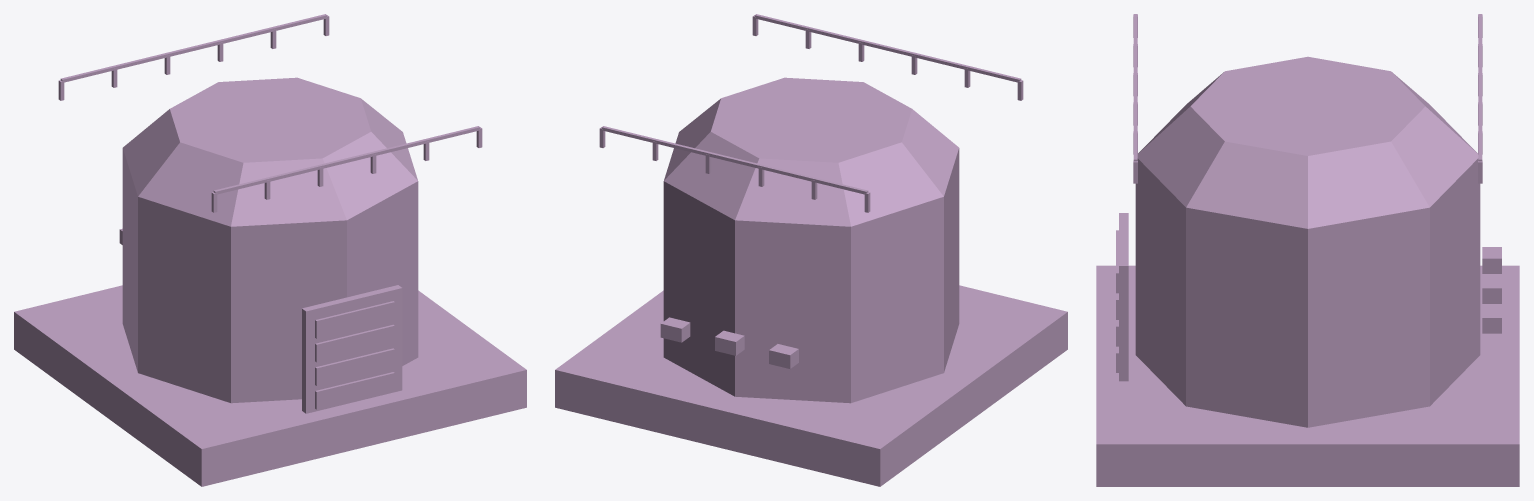
Rendered from exotics_lab.glb.
3 renders of one model, left to right at view 1: azimuth 30°, elevation 25°; view 2: azimuth 150°, elevation 25°; view 3: azimuth 270°, elevation 25°, orthographic. The views are drawn at different scales.
Parts seen in each view (by area): view 1: exotics_lab; view 2: exotics_lab; view 3: exotics_lab.
Boxes of the visible parts, x1,y1,x2,y2 form: exotics_lab: [14, 14, 526, 486]; exotics_lab: [555, 14, 1067, 486]; exotics_lab: [1096, 14, 1519, 486].
Bounding box in the file's own units: 5.4 × 4.38 × 5.4.
